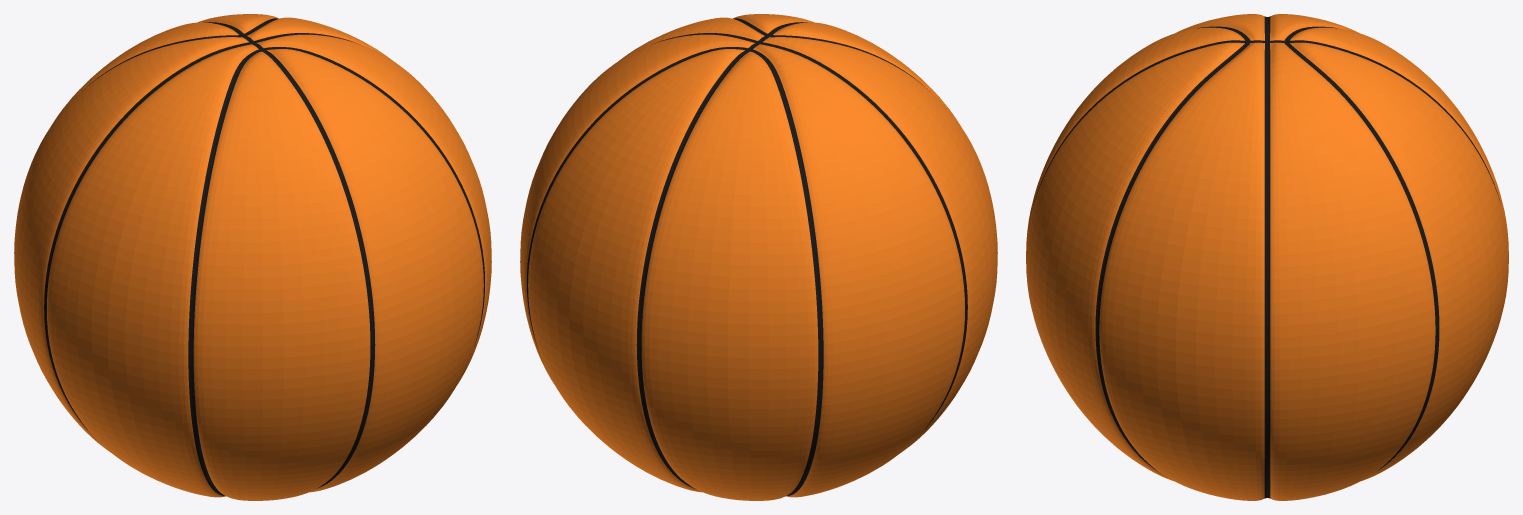
File: top.fbx
The picture shows the model from 3 angles, left to right: view 1: azimuth 30°, elevation 25°; view 2: azimuth 150°, elevation 25°; view 3: azimuth 270°, elevation 25°; orthographic projection.
Visible parts, largest first — view 1: Sphere; view 2: Sphere; view 3: Sphere.
Part boxes in pixels (x1=…): Sphere: x1=14, y1=14, x2=491, y2=500; Sphere: x1=520, y1=14, x2=997, y2=500; Sphere: x1=1026, y1=14, x2=1508, y2=500.
Size of the model in its own units: 196 by 196 by 196.
